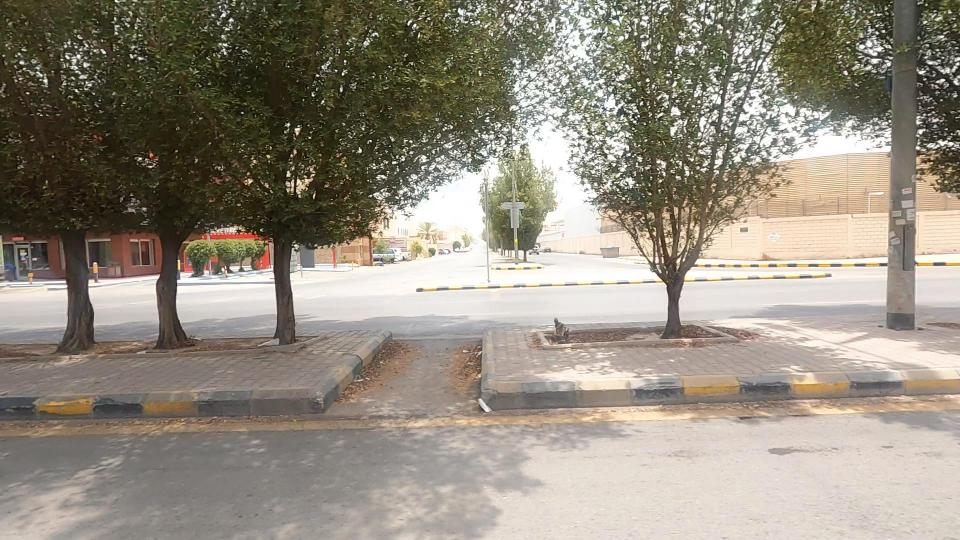GARBAGE: (437, 357, 536, 440), (235, 313, 312, 379)
